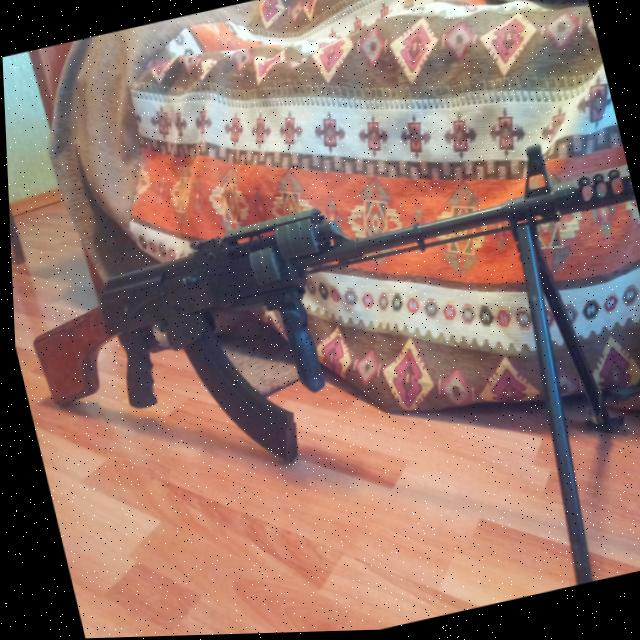firearm: (5, 127, 640, 509)
